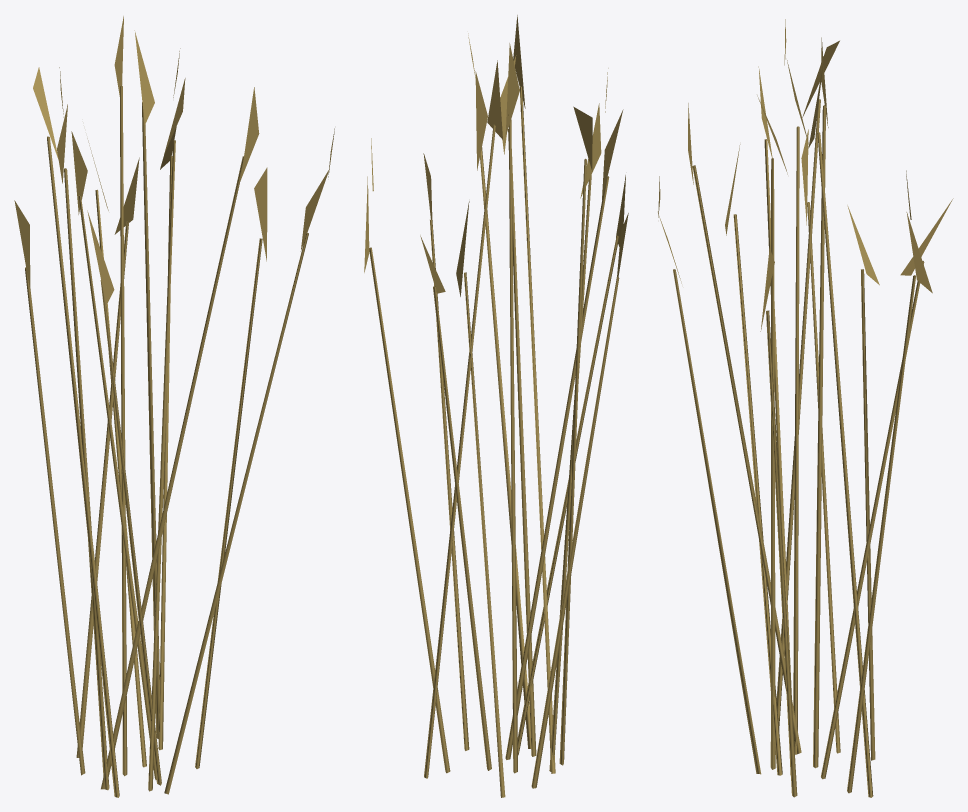
Rendered from trigo_0.glb.
3 views of the same model, side by side, from view 1: azimuth 30°, elevation 25°; view 2: azimuth 150°, elevation 25°; view 3: azimuth 270°, elevation 25° (orthographic). The views are drawn at different scales.
Parts seen in each view (by area): view 1: trigo_0.001; view 2: trigo_0.001; view 3: trigo_0.001.
Part boxes in pixels (<box>): trigo_0.001: <box>14,16,334,797</box>; trigo_0.001: <box>364,15,628,797</box>; trigo_0.001: <box>658,19,953,797</box>.
Bounding box in the file's own units: 0.42 × 1.25 × 0.4583.
